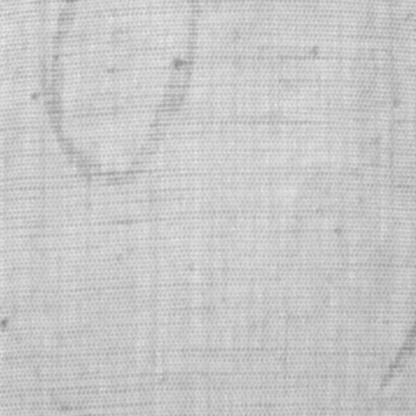oil spot: (44, 0, 201, 189), (375, 320, 415, 395)
